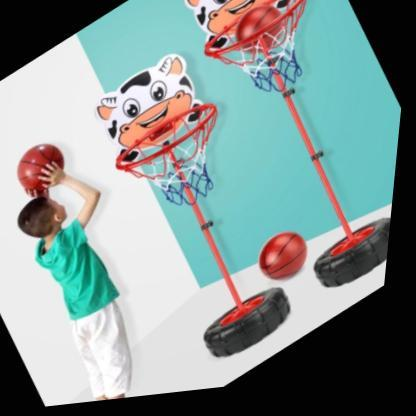basketball: (222, 0, 297, 69), (254, 226, 325, 298), (10, 132, 77, 200)
rim: (0, 137, 226, 415), (190, 0, 346, 136), (110, 96, 254, 237)
